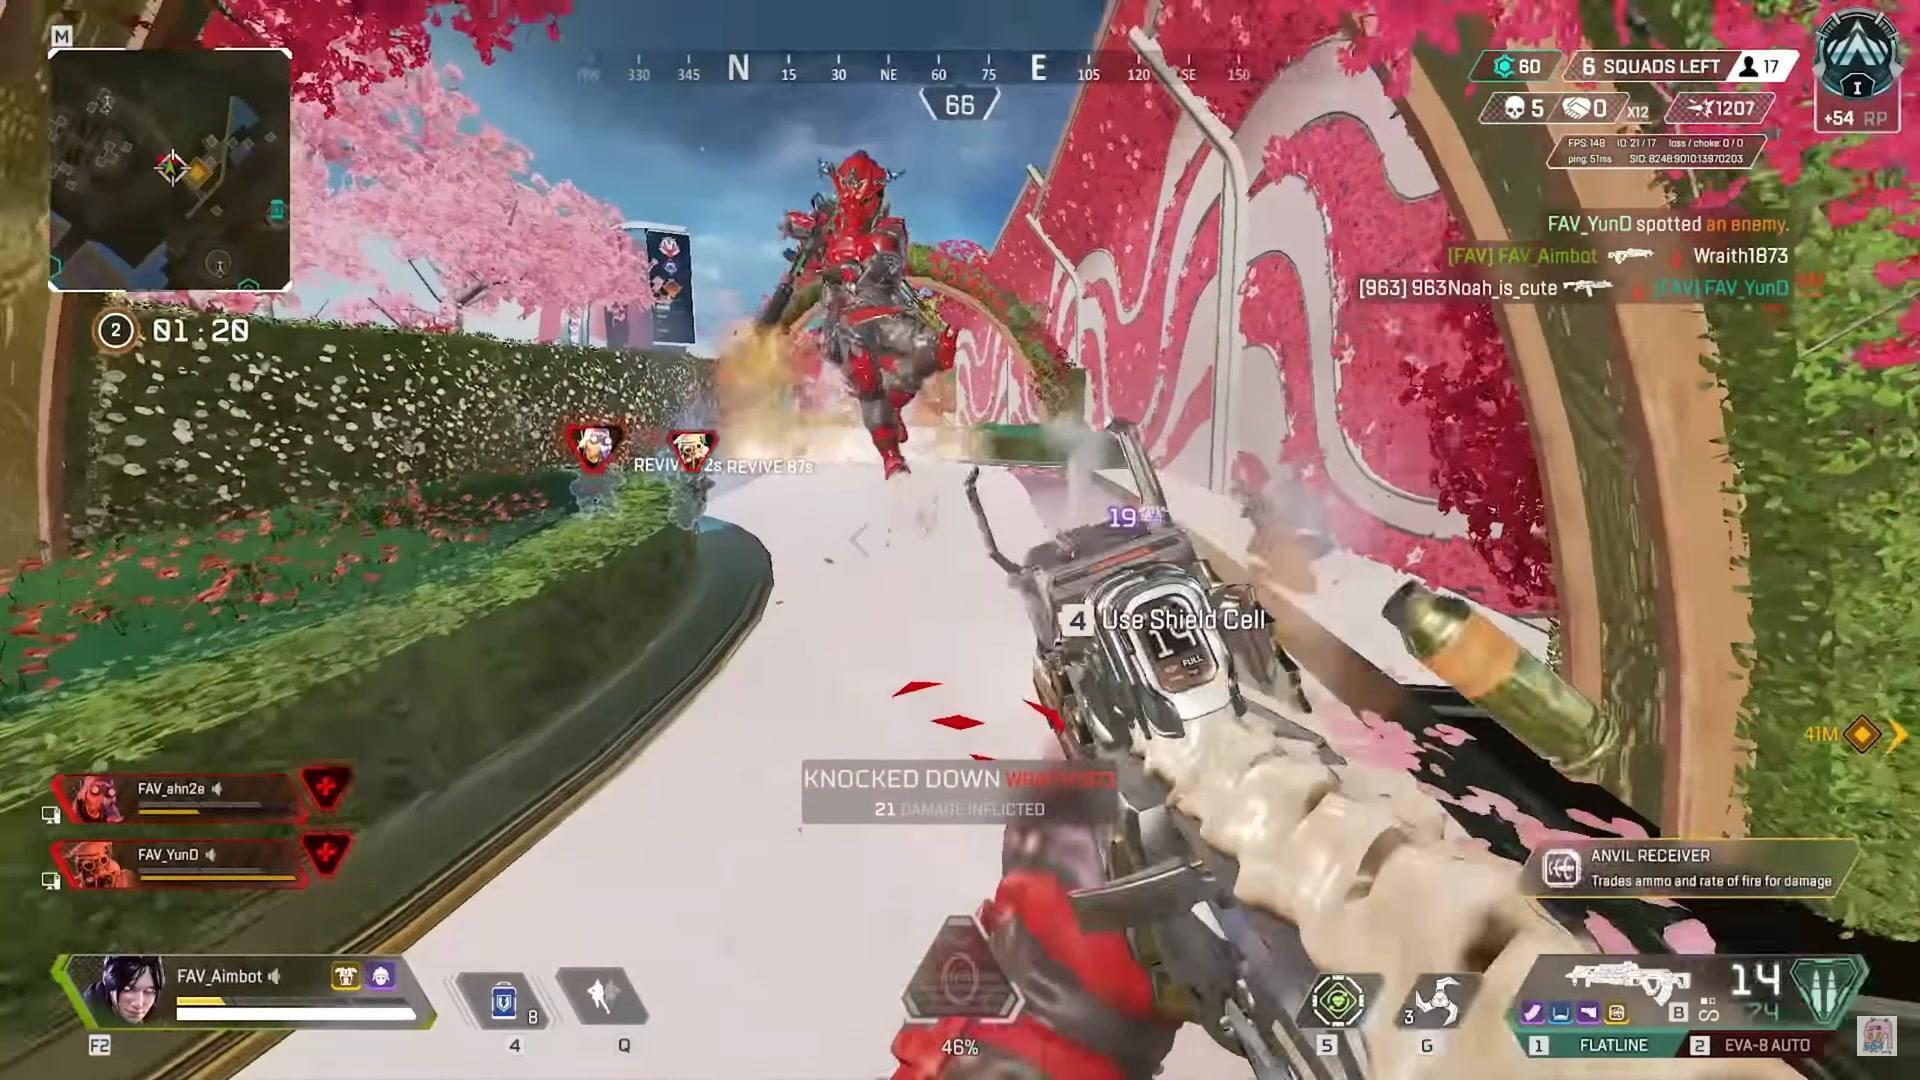avatar: (792, 149, 951, 476)
